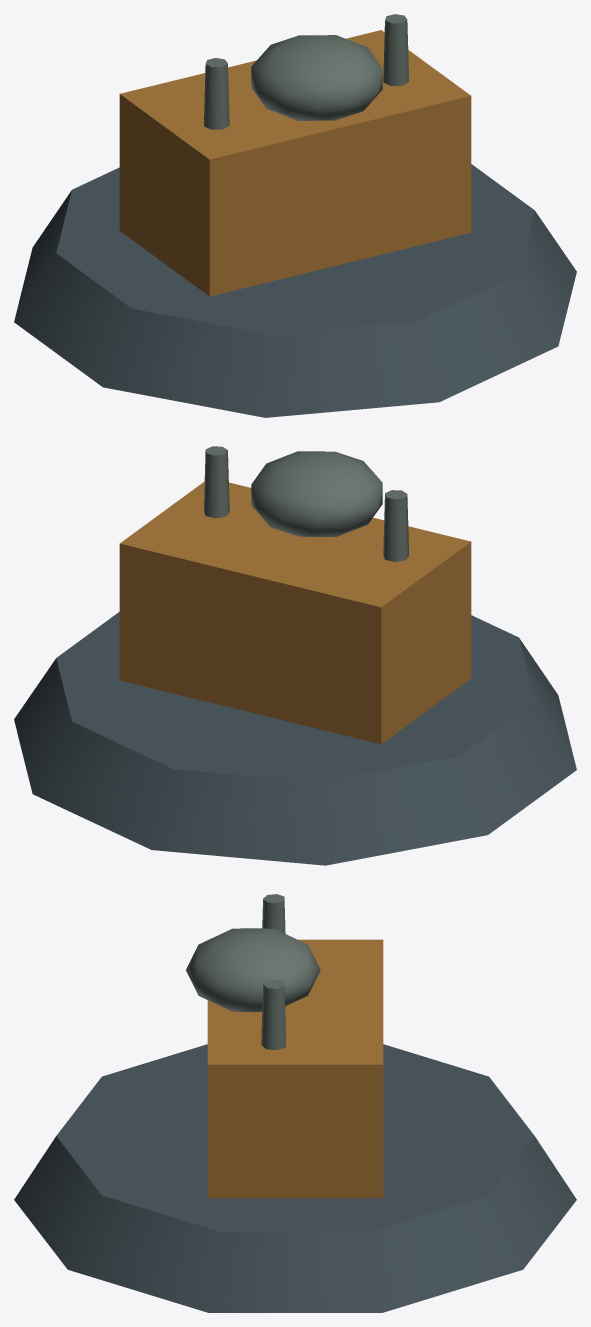
Rendered from sanctuary.glb.
3 views of the same model, one above another, from view 1: azimuth 30°, elevation 25°; view 2: azimuth 150°, elevation 25°; view 3: azimuth 270°, elevation 25° (orthographic). The views are drawn at different scales.
Parts seen in each view (by area): view 1: base, altar, emblem, candle_-1, candle_1; view 2: base, altar, emblem, candle_1, candle_-1; view 3: base, altar, emblem, candle_1, candle_-1.
Boxes of the visible parts, <box> form: base: <box>14,164,576,417</box>; altar: <box>119,30,471,296</box>; emblem: <box>251,35,382,120</box>; candle_-1: <box>204,58,229,129</box>; candle_1: <box>383,14,409,85</box>; base: <box>14,612,576,865</box>; altar: <box>119,481,471,744</box>; emblem: <box>251,451,382,536</box>; candle_1: <box>204,446,229,518</box>; candle_-1: <box>383,490,409,561</box>; base: <box>14,1044,576,1312</box>; altar: <box>207,939,383,1198</box>; emblem: <box>186,928,320,1012</box>; candle_1: <box>261,979,285,1050</box>; candle_-1: <box>262,894,285,933</box>.
Size of what is drawn, in the model's own units: 3.8 by 2.06 by 4.
